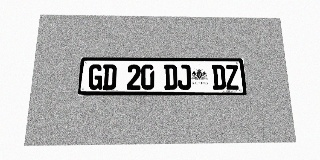0: (141, 64, 154, 90)
2: (127, 64, 141, 90)
D: (102, 64, 117, 90), (212, 65, 226, 90), (164, 65, 177, 90)
G: (88, 64, 103, 90)
J: (177, 65, 191, 90)
Z: (225, 65, 239, 90)
